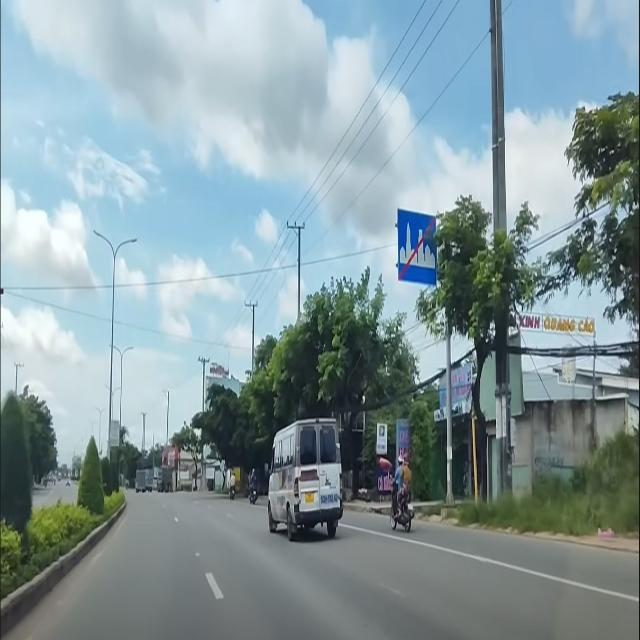Bien hieu lenh het khu dong dan cu: (394, 205, 440, 288)
